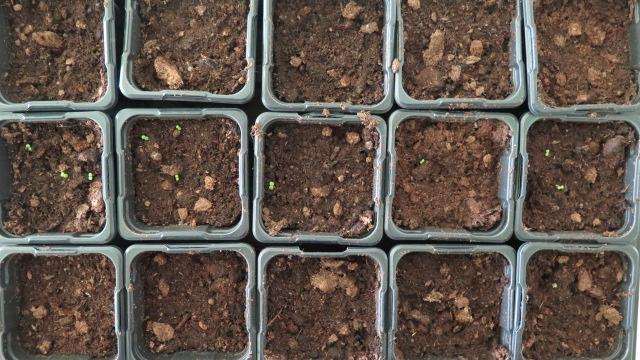weed: (265, 179, 276, 189), (55, 171, 70, 177), (541, 147, 550, 156), (85, 171, 94, 180), (137, 133, 150, 139), (173, 122, 182, 130), (23, 142, 32, 150), (416, 156, 426, 163), (172, 172, 180, 180)
